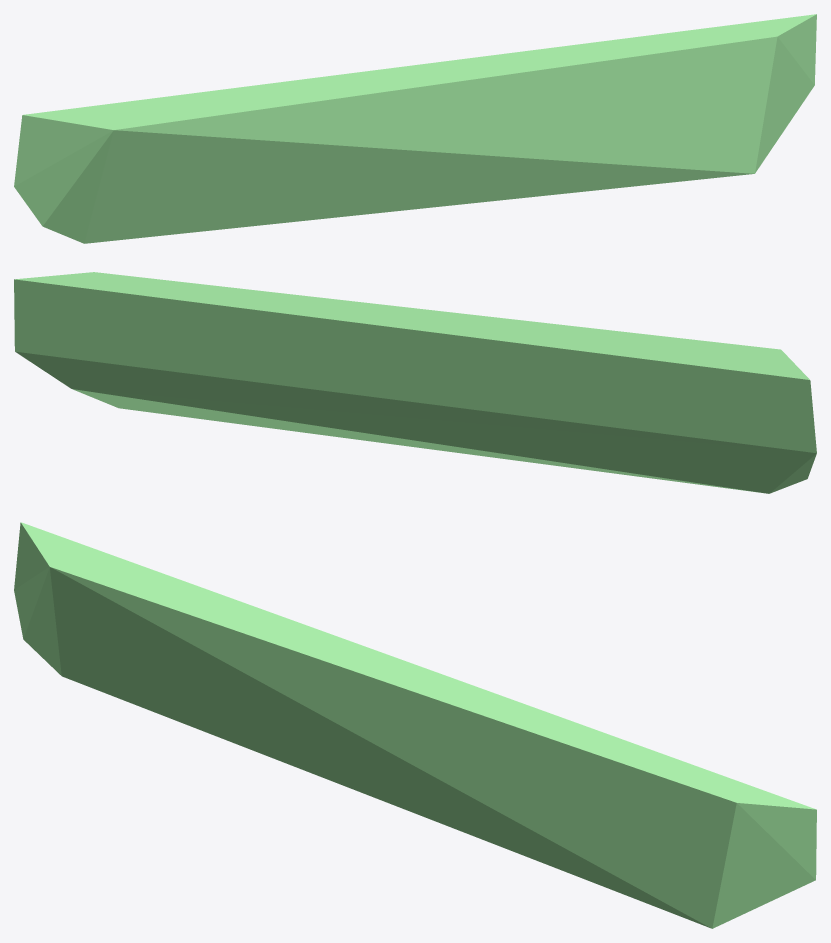
The model's file is UMIRobot_UMIRobot_link_2_convex_coll_39.dae.
3 views of the same model, one above another, from view 1: azimuth 30°, elevation 25°; view 2: azimuth 150°, elevation 25°; view 3: azimuth 330°, elevation 25° (orthographic).
Parts seen in each view (by area): view 1: node; view 2: node; view 3: node.
Boxes of the visible parts, <box> form: node: <box>14,14,816,243</box>; node: <box>14,272,816,493</box>; node: <box>14,522,816,928</box>.
Size of the model in its own units: 0.0404 by 0.0104 by 0.0028.
